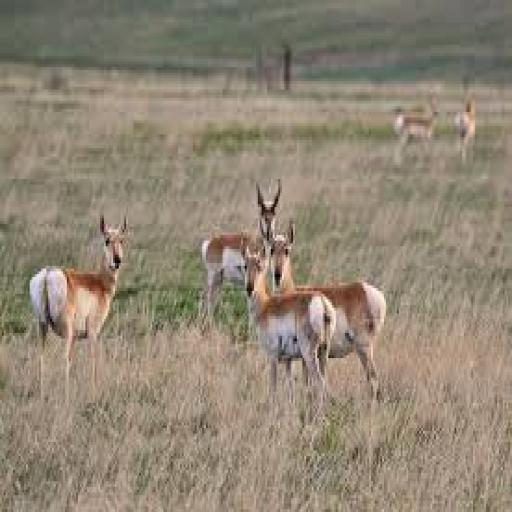antelope: (258, 221, 402, 405), (17, 198, 147, 398), (232, 232, 340, 428), (192, 163, 287, 338)
